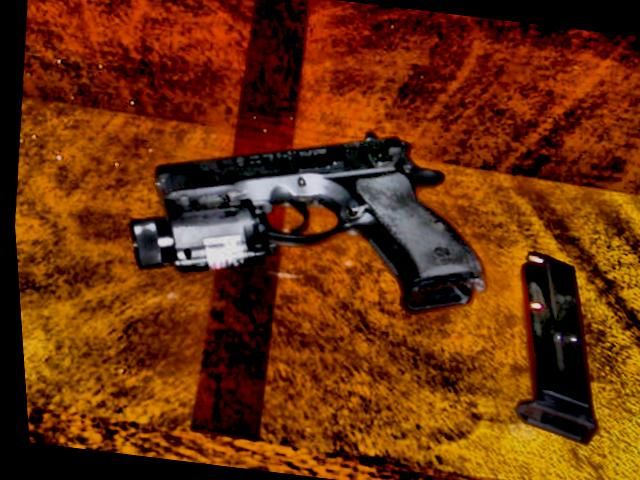pistol: (105, 100, 502, 320)
